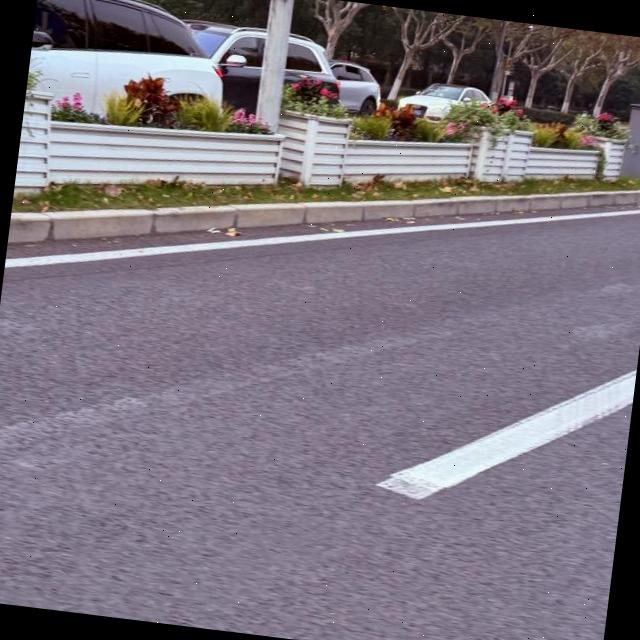curb: (7, 191, 640, 242)
